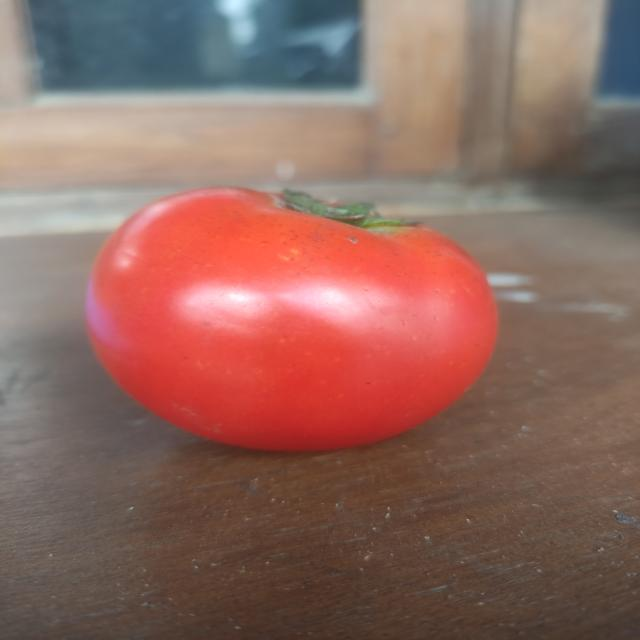ripe tomato: (83, 189, 500, 456)
